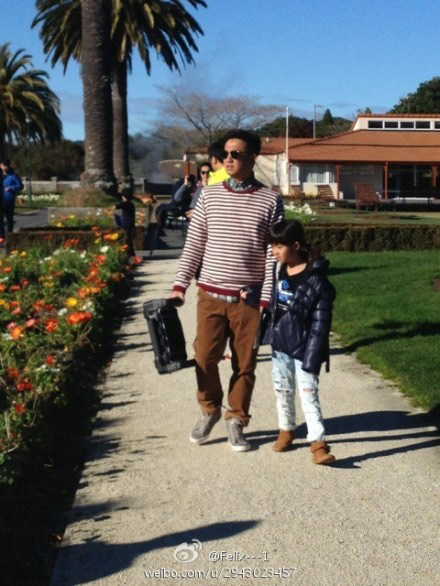other: (150, 129, 291, 448), (247, 215, 366, 470)
